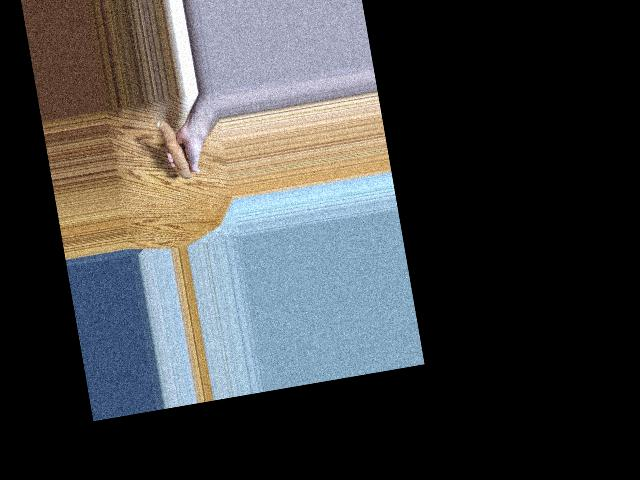sweet_potato: (165, 116, 192, 182)
